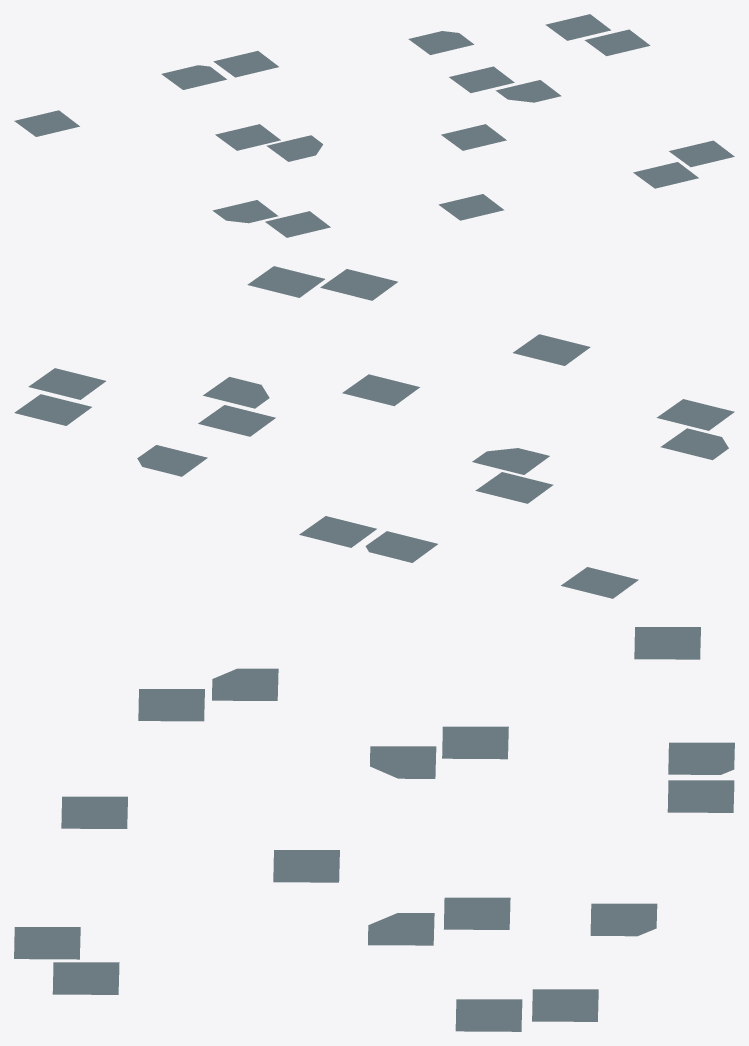
Rendered from Tiles 02.FBX.
3 views of the same model, one above another, from view 1: azimuth 30°, elevation 25°; view 2: azimuth 150°, elevation 25°; view 3: azimuth 270°, elevation 25° (orthographic). The views are drawn at different scales.
Visible parts, largest first — view 1: Tiles 02; view 2: Tiles 02; view 3: Tiles 02.
Boxes of the visible parts, bbox=[...] form: Tiles 02: bbox=[14, 14, 734, 237]; Tiles 02: bbox=[14, 266, 734, 598]; Tiles 02: bbox=[14, 627, 734, 1031].
Size of the model in its own units: 811 by 5.36e-07 by 611.
